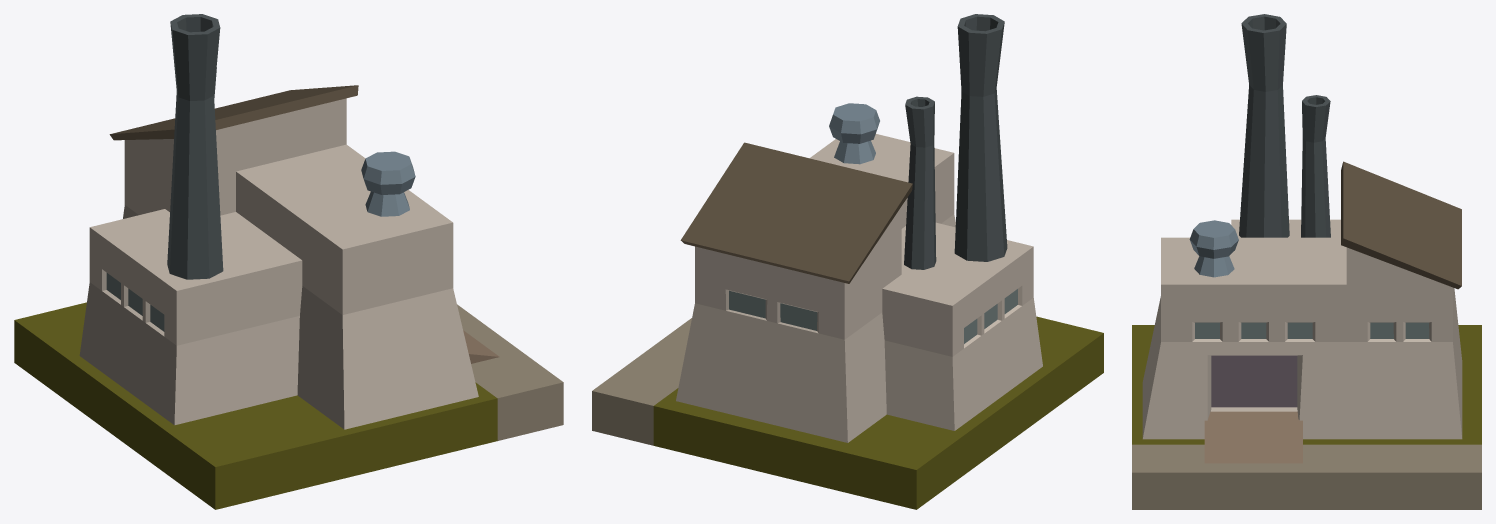
Rendered from Fabrica Grande.fbx.
3 views of the same model, side by side, from view 1: azimuth 30°, elevation 25°; view 2: azimuth 150°, elevation 25°; view 3: azimuth 270°, elevation 25° (orthographic). The views are drawn at different scales.
Parts seen in each view (by area): view 1: Fábrica Grande; view 2: Fábrica Grande; view 3: Fábrica Grande.
Boxes of the visible parts, x1,y1,x2,y2 form: Fábrica Grande: (14,14,563,509); Fábrica Grande: (592,14,1103,509); Fábrica Grande: (1132,14,1481,509).
Size of the model in its own units: 200 by 228 by 200.
